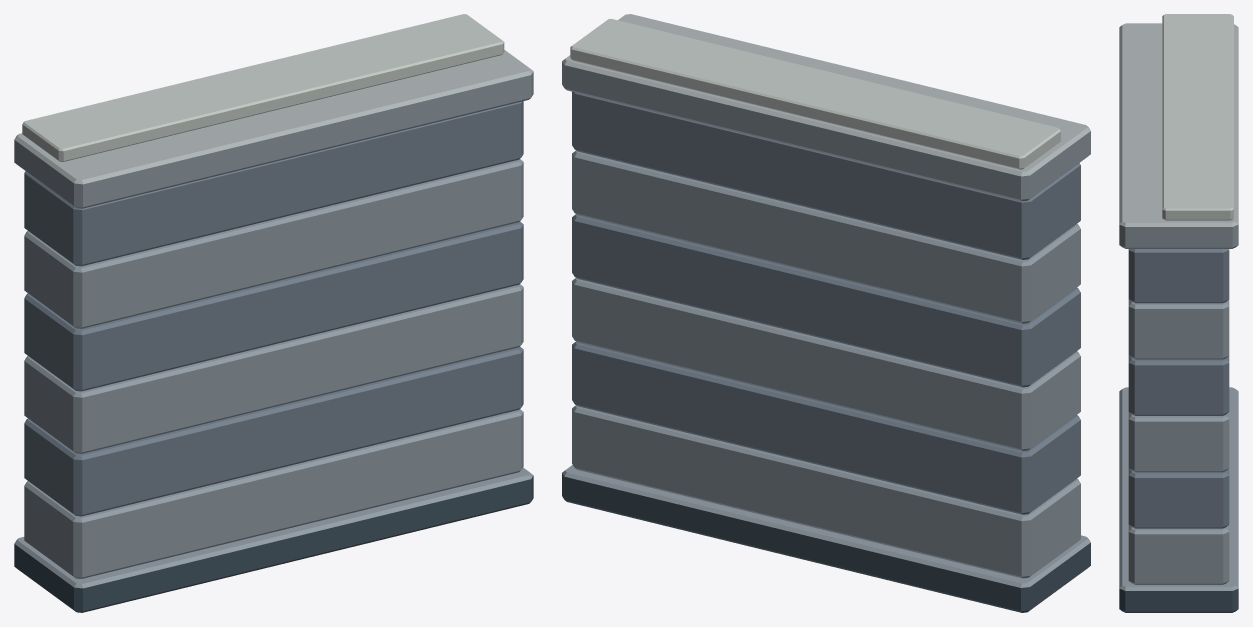
File: wall-tall.glb
3 views of the same model, side by side, from view 1: azimuth 30°, elevation 25°; view 2: azimuth 150°, elevation 25°; view 3: azimuth 270°, elevation 25° (orthographic). The views are drawn at different scales.
Visible parts, largest first — view 1: wall-tall__body; view 2: wall-tall__body; view 3: wall-tall__body.
Boxes of the visible parts, x1,y1,x2,y2 form: wall-tall__body: (14, 14, 533, 612); wall-tall__body: (562, 14, 1090, 612); wall-tall__body: (1119, 14, 1238, 612).
Size of the model in its own units: 2 by 1.86 by 0.5.
